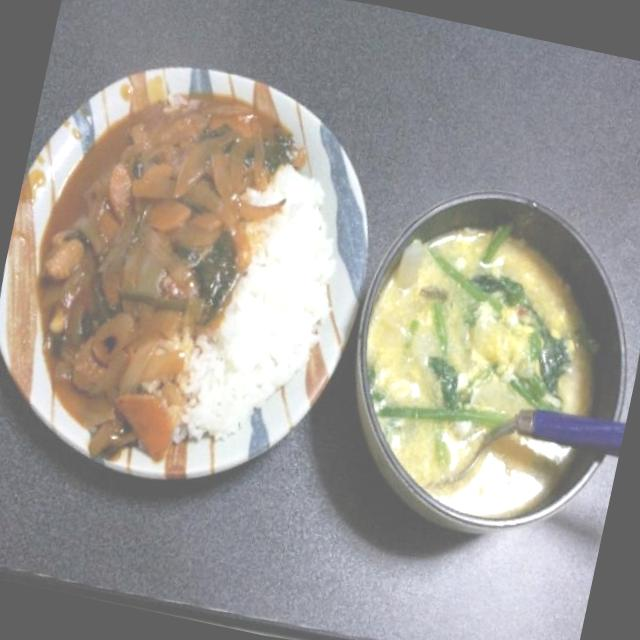Beef Curry: (0, 66, 262, 474)
